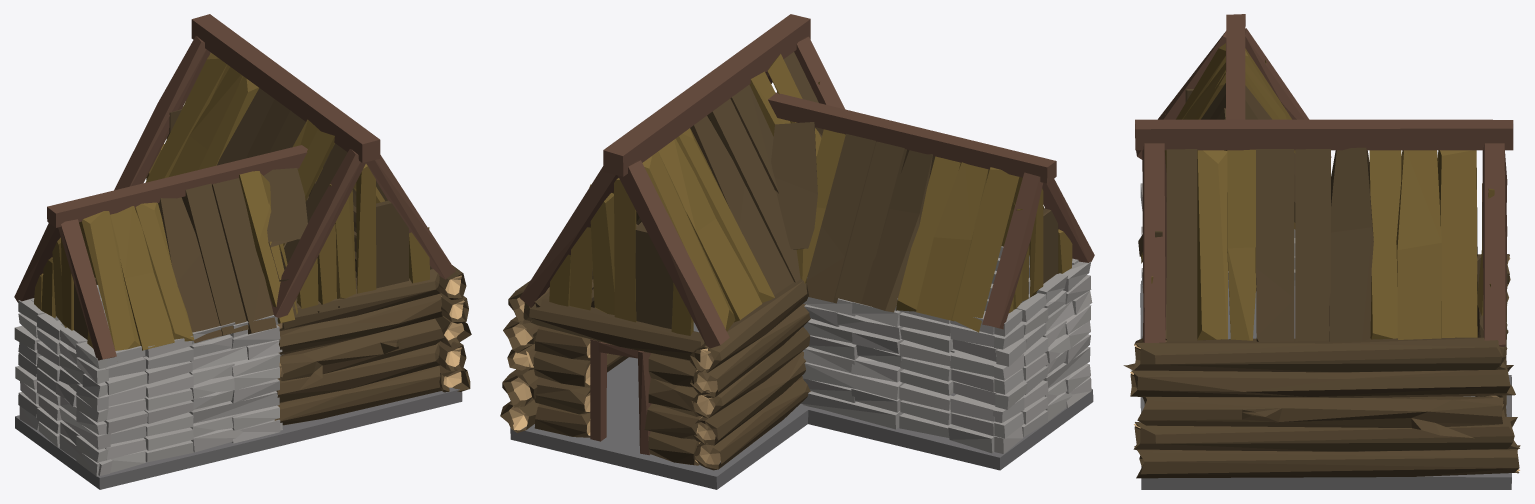
The model's file is House3.fbx.
3 renders of one model, left to right at view 1: azimuth 30°, elevation 25°; view 2: azimuth 150°, elevation 25°; view 3: azimuth 270°, elevation 25°, orthographic. The views are drawn at different scales.
Parts seen in each view (by area): view 1: House3; view 2: House3; view 3: House3.
Boxes of the visible parts, <box> form: House3: <box>14,14,471,489</box>; House3: <box>500,14,1094,489</box>; House3: <box>1123,14,1520,489</box>.
Size of the model in its own units: 1109 by 770 by 878.
